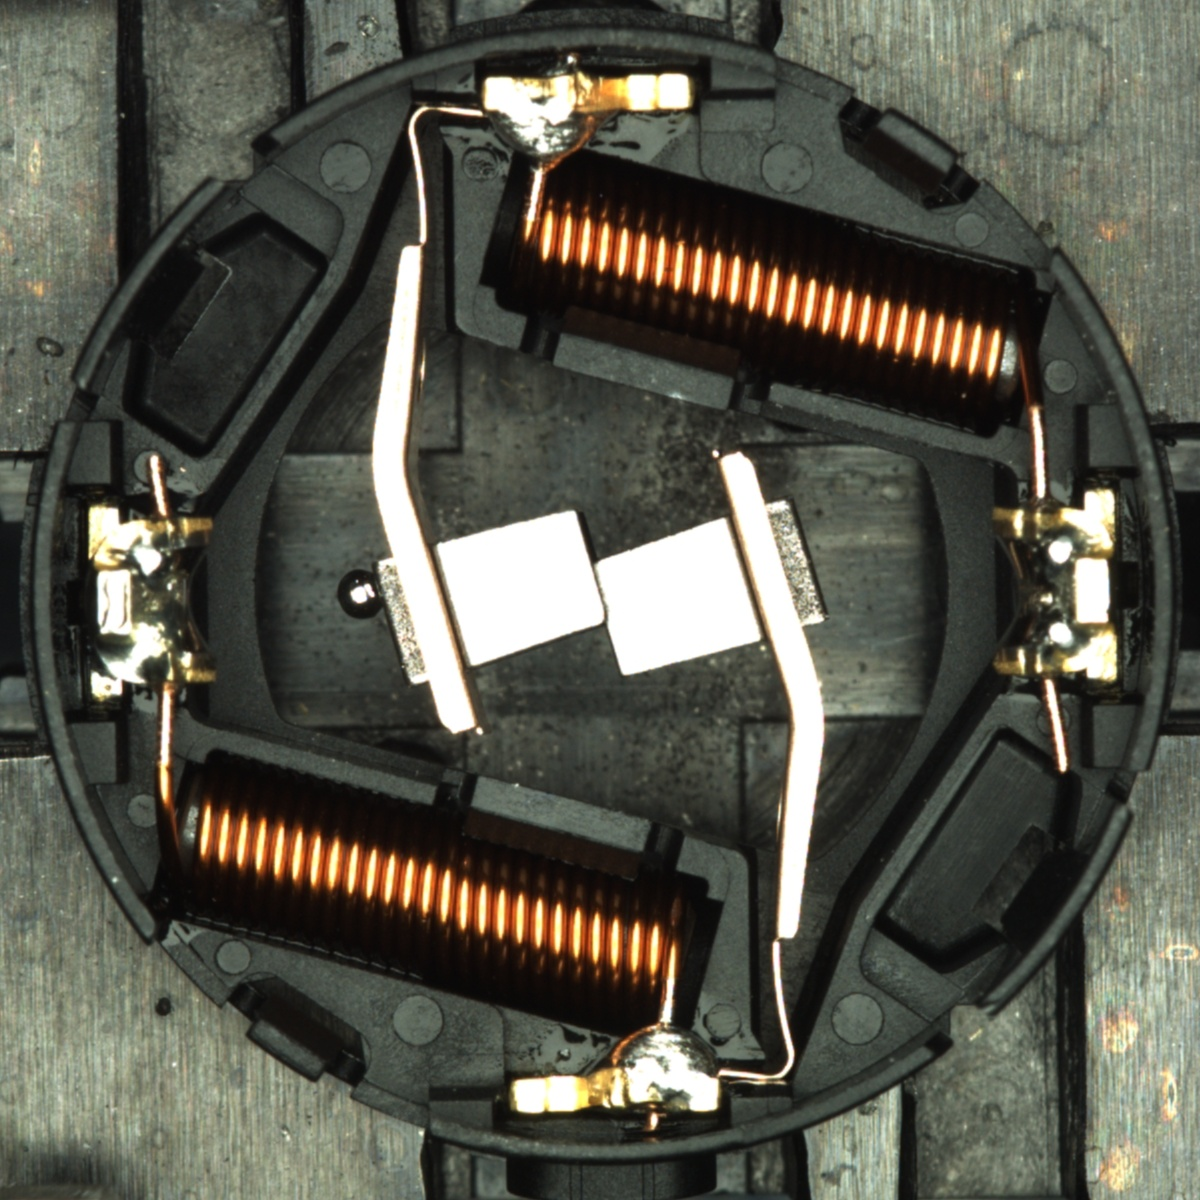1: (258, 55, 487, 279), (716, 953, 945, 1177)
2: (716, 55, 945, 279), (258, 953, 487, 1177)
3: (29, 279, 258, 503), (945, 729, 1175, 953)
4: (258, 279, 487, 503), (716, 729, 945, 953)
5: (487, 167, 716, 391), (487, 841, 716, 1065)
6: (716, 279, 945, 503), (258, 729, 487, 953)
7: (945, 279, 1175, 503), (29, 729, 258, 953)
chau_dien: (81, 500, 221, 701), (984, 488, 1123, 687)
hat_chi: (336, 569, 385, 620)
tay_choi: (482, 71, 696, 174), (510, 1019, 723, 1116)
thanh_de: (955, 788, 1141, 1031), (59, 163, 244, 405)
